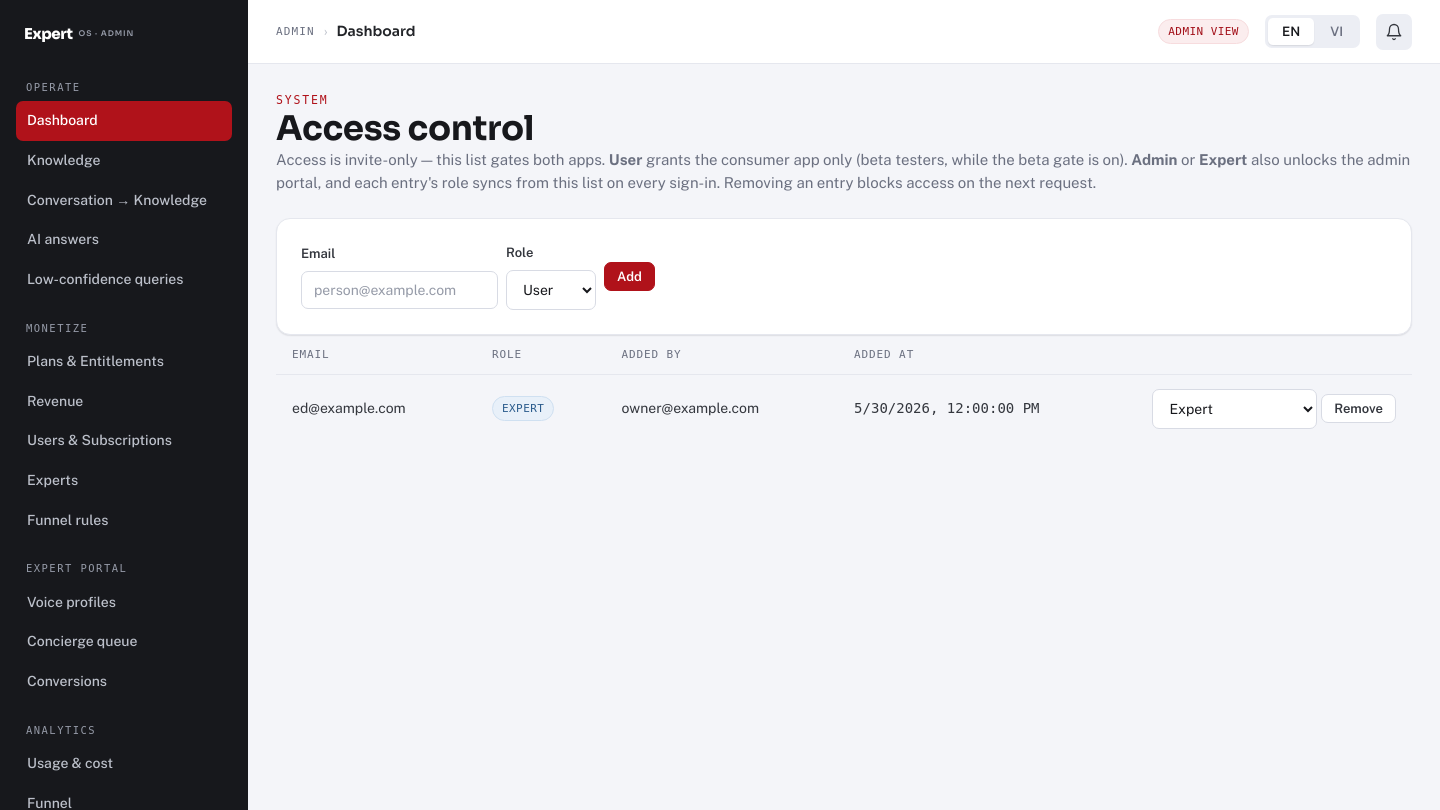
Test case: AccessControlPage — role change + remove › promotes an expert to admin via PATCH
Expected: the text "ed@example.com" is shown, [276,374,476,443]
Select "Admin" in the dropdown named "Role": (1235, 409) [1152,389,1317,429]
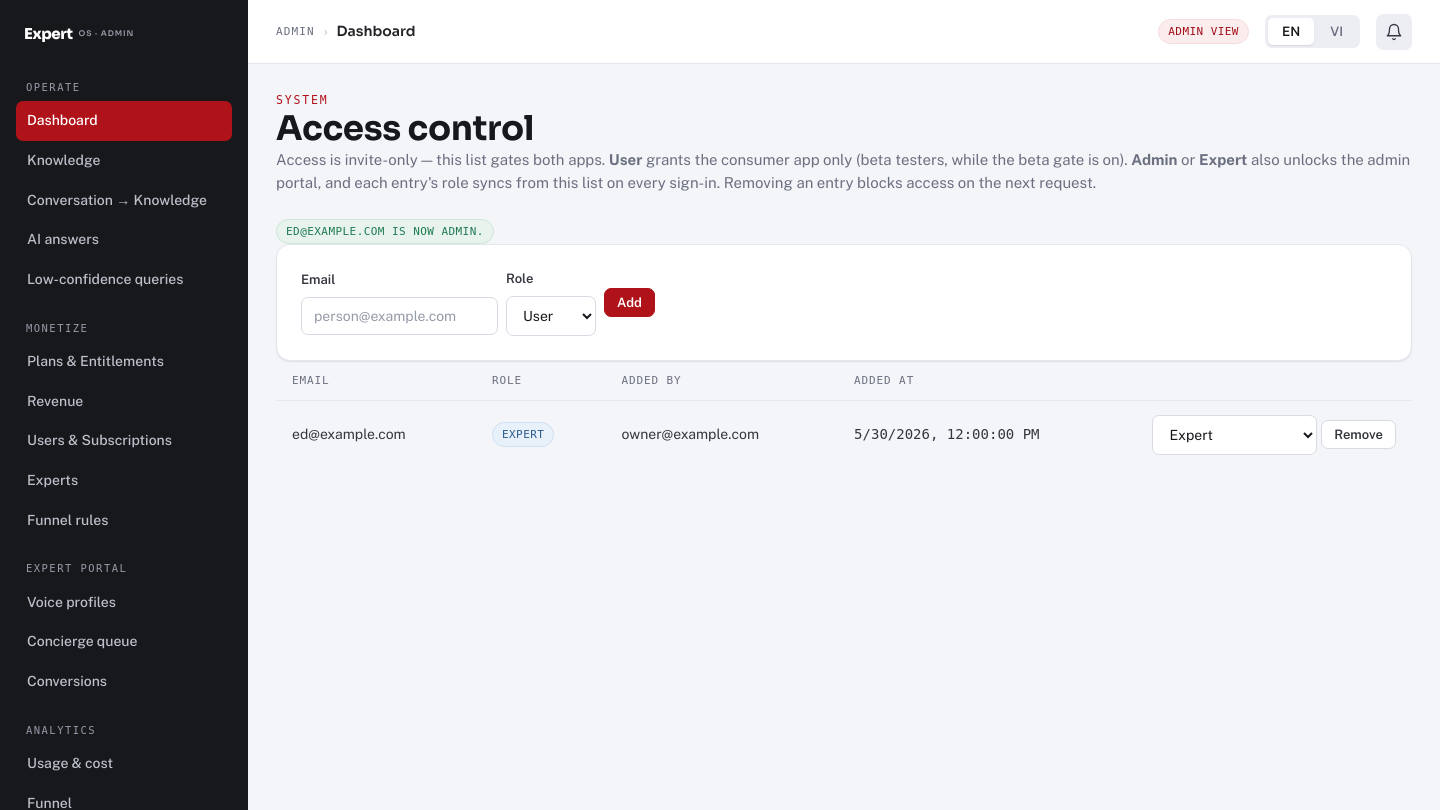
Now the text "ed@example.com is now Admin." is shown, box [276,219,494,244]
